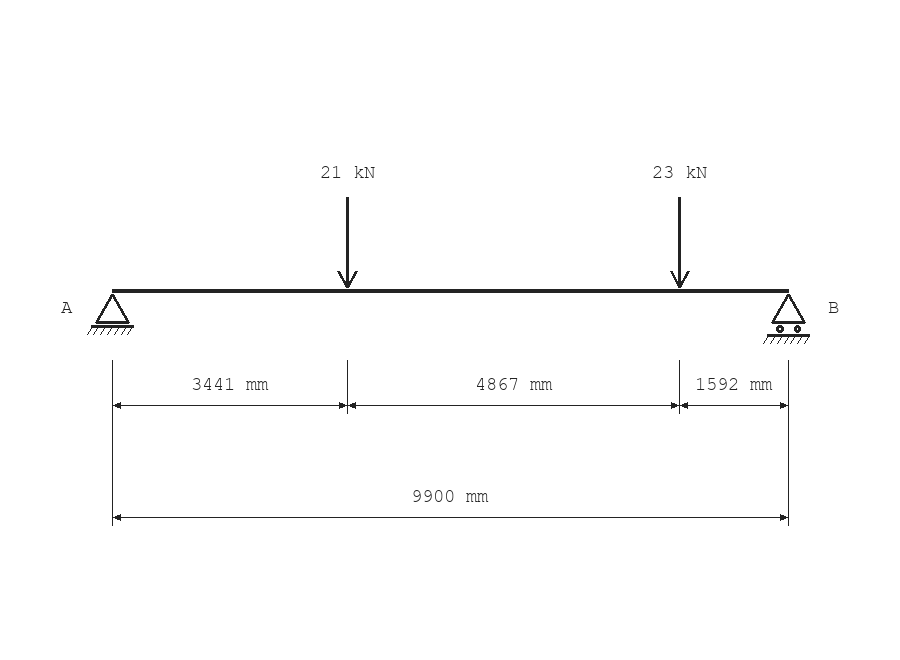pin_support: (87, 294, 134, 335)
point_load: (337, 197, 358, 288), (670, 197, 690, 288)
roller_support: (763, 294, 810, 344)
